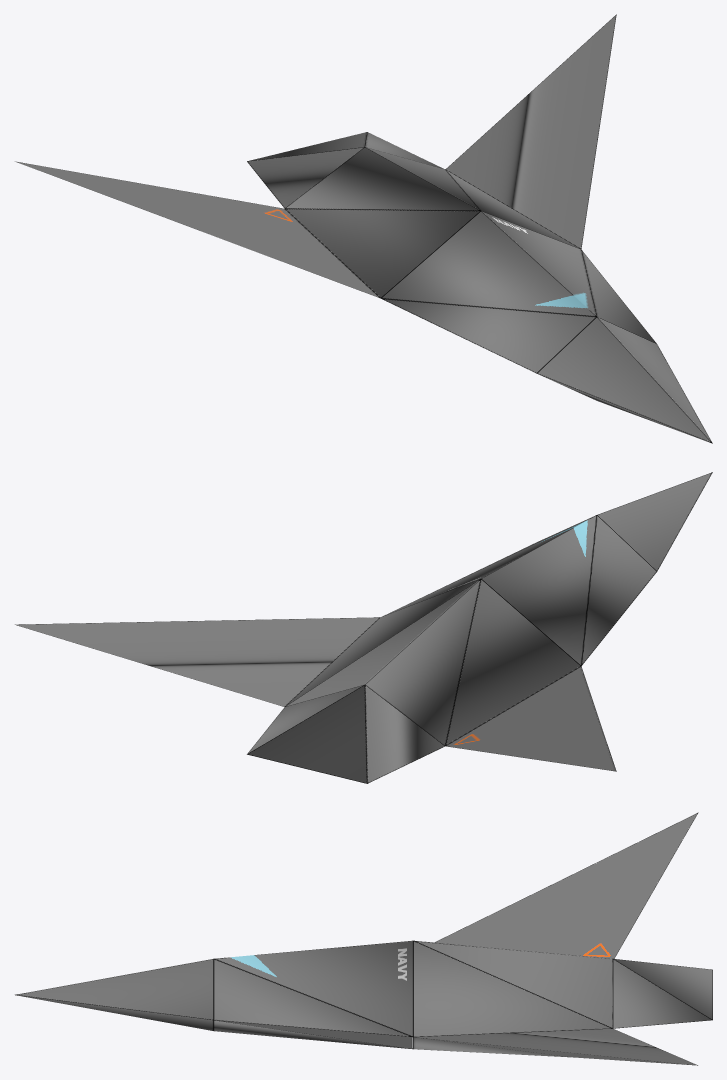
Rendered from spaceship_simple.obj.
3 renders of one model, top to bottom at view 1: azimuth 30°, elevation 25°; view 2: azimuth 150°, elevation 25°; view 3: azimuth 270°, elevation 25°, orthographic. The views are drawn at different scales.
Parts seen in each view (by area): view 1: spaceship_simple; view 2: spaceship_simple; view 3: spaceship_simple.
Boxes of the visible parts, x1=… form: spaceship_simple: x1=15, y1=14, x2=712, y2=443; spaceship_simple: x1=15, y1=472, x2=712, y2=783; spaceship_simple: x1=15, y1=812, x2=712, y2=1065.
Size of the model in its own units: 3 by 0.6093 by 3.5.
